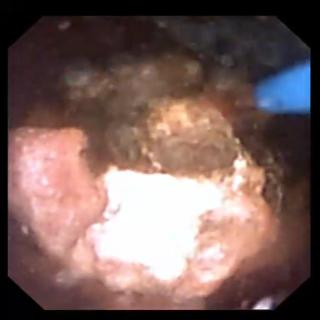fiber: (256, 62, 308, 112)
stone: (10, 51, 304, 298)
